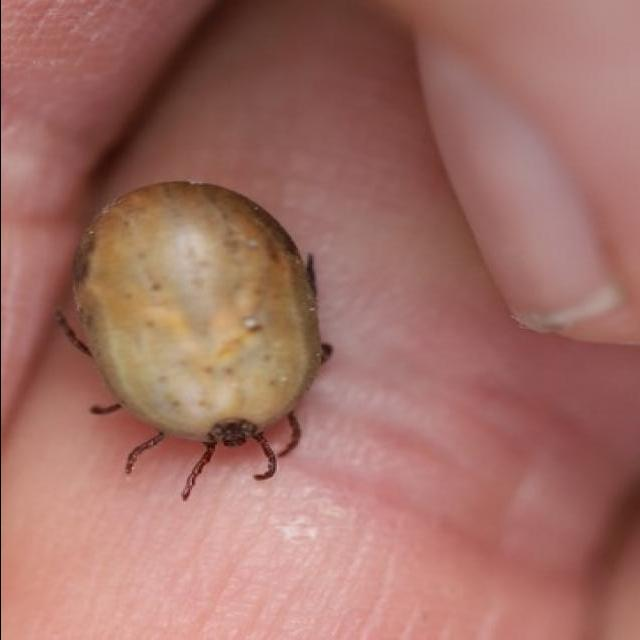Dermacentor Reticulatus-F-Fed: (53, 181, 332, 501)
